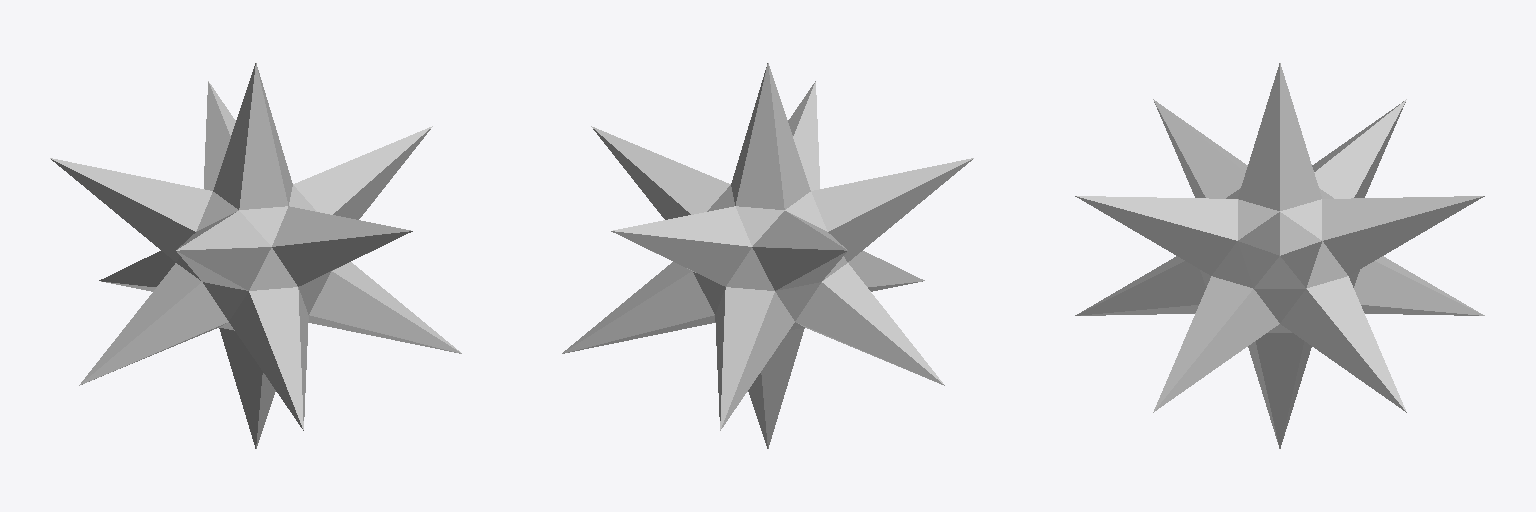
File: debris.obj
3 views of the same model, side by side, from view 1: azimuth 30°, elevation 25°; view 2: azimuth 150°, elevation 25°; view 3: azimuth 270°, elevation 25° (orthographic).
Visible parts, largest first — view 1: Icosphere; view 2: Icosphere; view 3: Icosphere.
Part boxes in pixels (left/top/right/bottom): Icosphere: left=50, top=63, right=461, bottom=448; Icosphere: left=562, top=63, right=973, bottom=448; Icosphere: left=1075, top=63, right=1484, bottom=448.
Bounding box in the file's own units: 1.25 × 1.31 × 1.26.